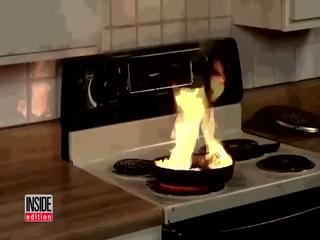Fire: (152, 29, 235, 171)
